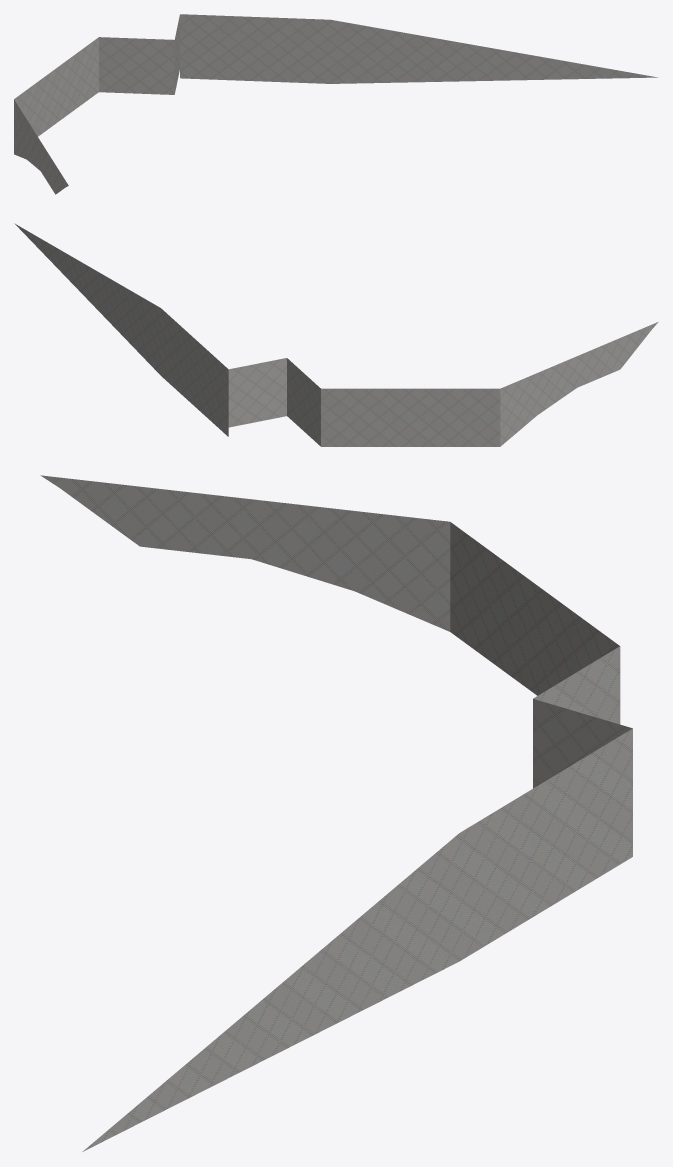
The model's file is kd_stage_13612f_4_27.glb.
The picture shows the model from 3 angles, top to bottom: view 1: azimuth 30°, elevation 25°; view 2: azimuth 150°, elevation 25°; view 3: azimuth 270°, elevation 25°; orthographic projection. The views are drawn at different scales.
Parts seen in each view (by area): view 1: kd_stage_13612f_4_27; view 2: kd_stage_13612f_4_27; view 3: kd_stage_13612f_4_27.
Boxes of the visible parts, x1=… form: kd_stage_13612f_4_27: x1=14, y1=14, x2=657, y2=194; kd_stage_13612f_4_27: x1=14, y1=223, x2=658, y2=446; kd_stage_13612f_4_27: x1=40, y1=475, x2=632, y2=1151.
Size of the model in its own units: 58.66 by 6 by 25.09.
Materials: 1 (1 with a texture image).
